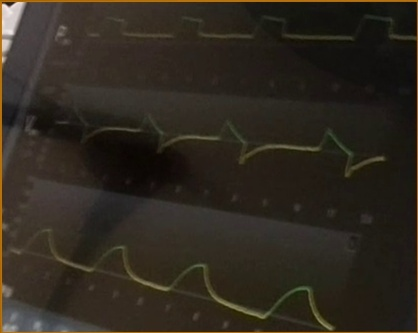Normal Flow: (54, 101, 384, 176)
Normal Volume: (12, 225, 332, 330)
